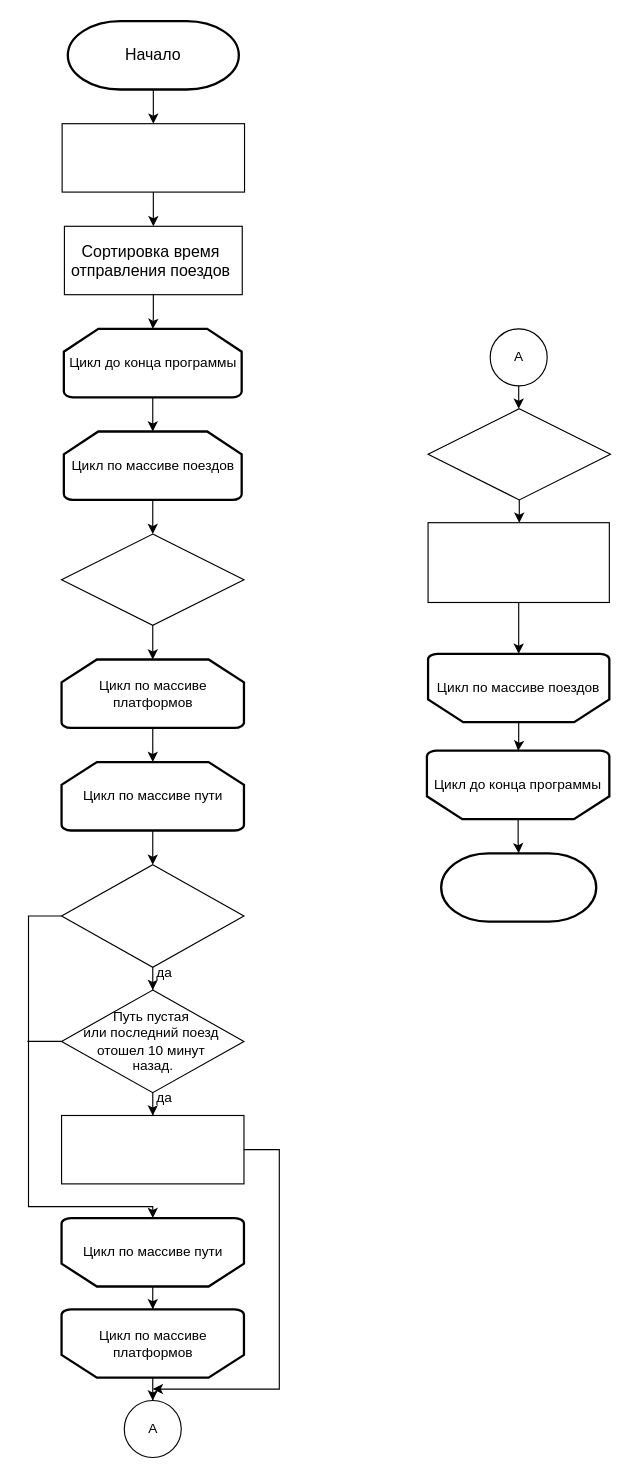
The diagram is 630 pixels wide and 1477 high, and some of its shapes have lost their labels. The shapes that lost their labels are listed below. From the top down, each one's centre as x and y in pixels, then its label:
At (x=153, y=157): "Инициализировать интерфейс".
At (x=518, y=454): "Поезд не запланирован и все пути заняты".
At (x=152, y=579): "Поезд не планирован и через 3 минут он приедет".
At (x=518, y=562): "Время отправления поездов = Время отправления первого поезда со станции + 10".
At (x=518, y=887): "Конец".
At (x=152, y=915): "Правильное ли направление поезда в этой пути".
At (x=152, y=1149): "Поезд будет планировать в этой пути".
